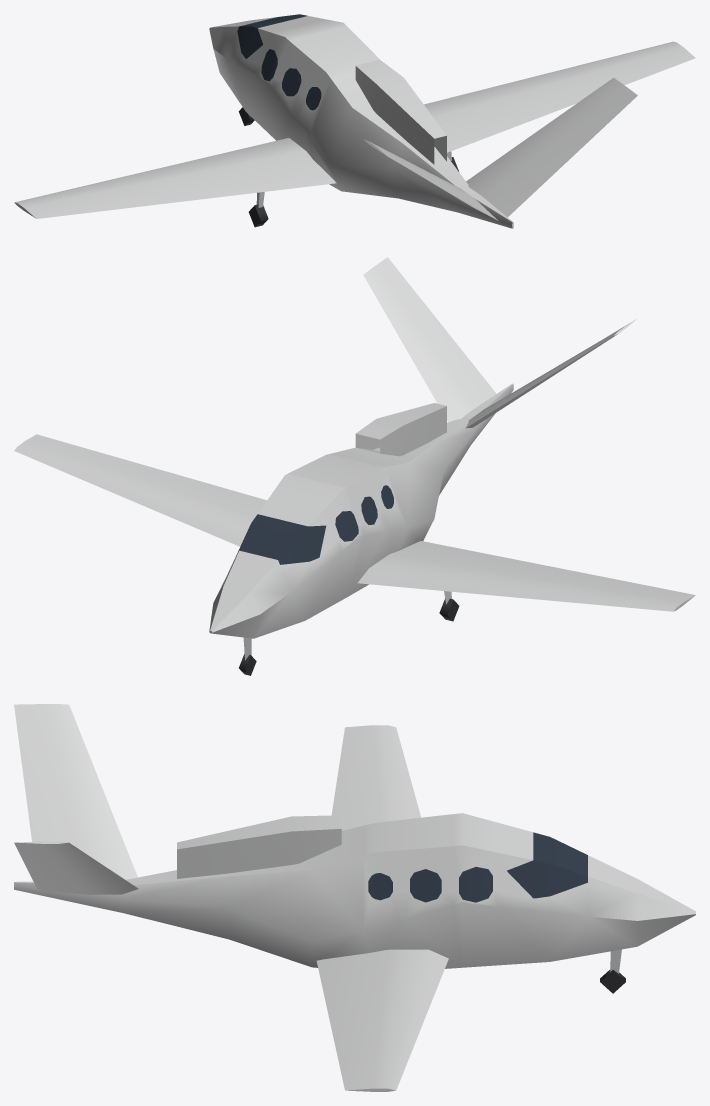
The model's file is Cirrus_Vision_Jet_LOD1.glb.
3 views of the same model, one above another, from view 1: azimuth 30°, elevation 25°; view 2: azimuth 150°, elevation 25°; view 3: azimuth 270°, elevation 25° (orthographic). The views are drawn at different scales.
Visible parts, largest first — view 1: Fuselage, Wing_Left, Wing_Right, VTail_Right, Nacelle, VTail_Left; view 2: Fuselage, Wing_Left, Wing_Right, VTail_Right, Nacelle, VTail_Left; view 3: Fuselage, Wing_Right, VTail_Left, Nacelle, Wing_Left, VTail_Right.
Boxes of the visible parts, x1=… form: Fuselage: x1=209, y1=14, x2=513, y2=228; Wing_Left: x1=14, y1=138, x2=336, y2=218; Wing_Right: x1=424, y1=41, x2=695, y2=152; VTail_Right: x1=466, y1=77, x2=637, y2=217; Nacelle: x1=355, y1=59, x2=446, y2=164; VTail_Left: x1=364, y1=139, x2=498, y2=220; Fuselage: x1=209, y1=383, x2=513, y2=638; Wing_Left: x1=357, y1=541, x2=695, y2=611; Wing_Right: x1=14, y1=434, x2=266, y2=546; VTail_Right: x1=363, y1=257, x2=496, y2=422; Nacelle: x1=355, y1=403, x2=446, y2=456; VTail_Left: x1=466, y1=318, x2=637, y2=428; Fuselage: x1=14, y1=813, x2=695, y2=968; Wing_Right: x1=316, y1=949, x2=448, y2=1091; VTail_Left: x1=14, y1=704, x2=137, y2=879; Nacelle: x1=177, y1=815, x2=341, y2=878; Wing_Left: x1=331, y1=725, x2=420, y2=830; VTail_Right: x1=14, y1=841, x2=138, y2=894.
Bounding box in the file's own units: 11.8 × 3.32 × 9.36.
